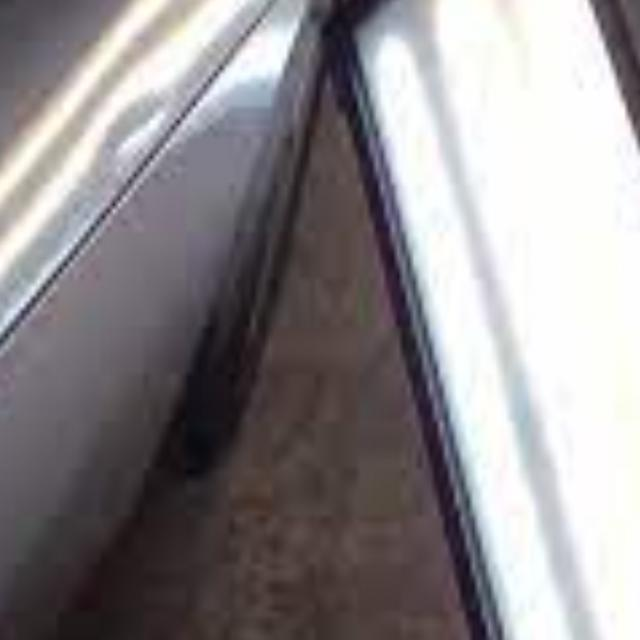dents: (87, 94, 191, 193)
